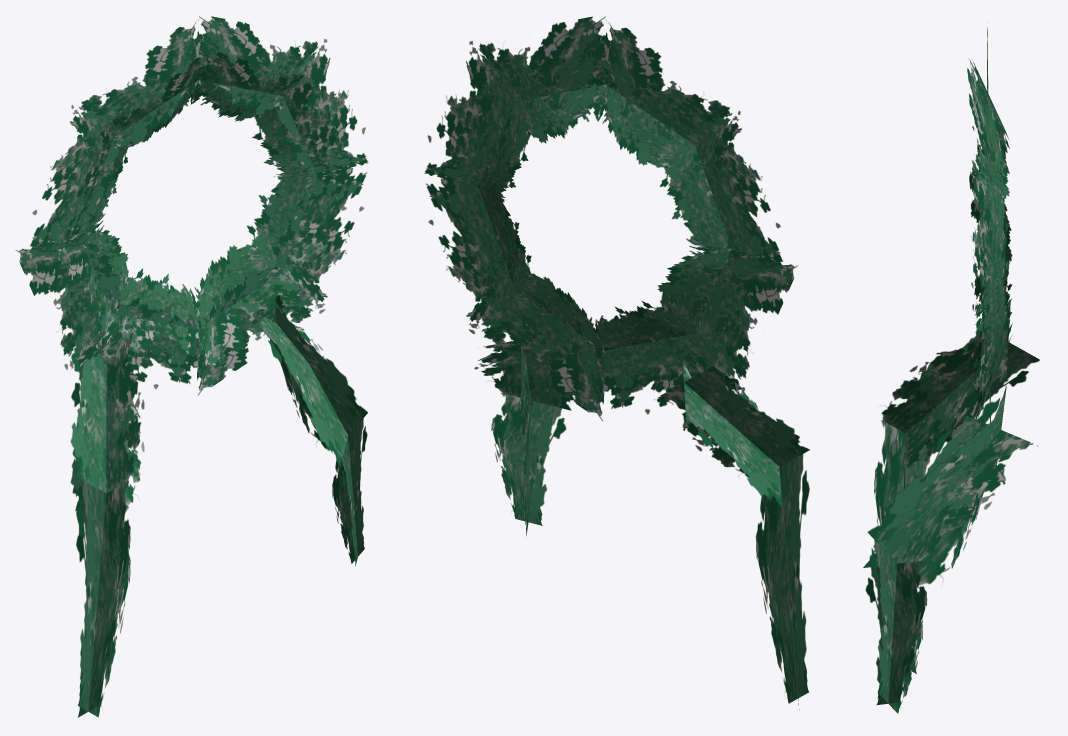
The model's file is Wreath01.glb.
3 renders of one model, left to right at view 1: azimuth 30°, elevation 25°; view 2: azimuth 150°, elevation 25°; view 3: azimuth 270°, elevation 25°, orthographic. The views are drawn at different scales.
Visible parts, largest first — view 1: Wreath01; view 2: Wreath01; view 3: Wreath01.
Part boxes in pixels (left/top/right/bottom): Wreath01: left=15, top=16, right=367, bottom=717; Wreath01: left=424, top=16, right=809, bottom=709; Wreath01: left=863, top=27, right=1039, bottom=713.
Size of the model in its own units: 1.58 by 2.68 by 0.6651.
1 material, 1 textured.
